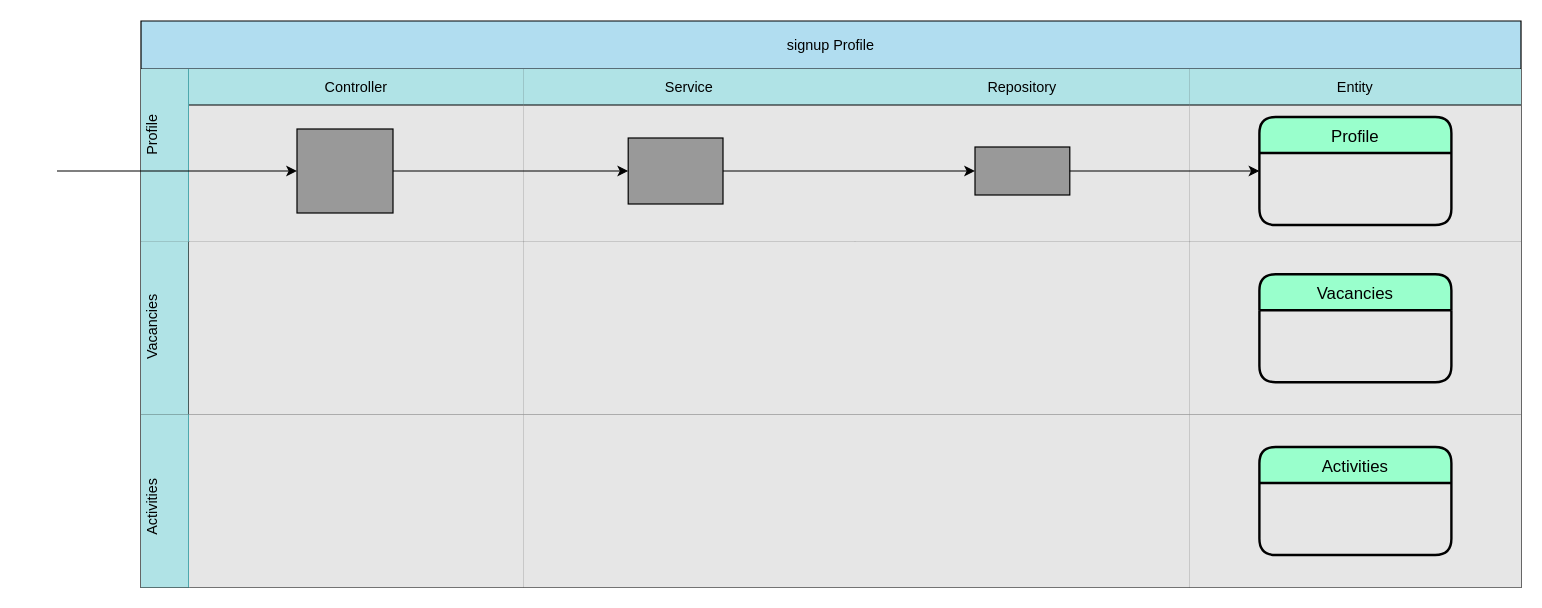
This 1542x608 diagram has some shape labels left out. The centre of each missing label's shape, as x and y in pixels:
Check username availibility: (x=675, y=170)
click signup/ enter username password: (x=344, y=170)
Save username: (x=1022, y=170)
